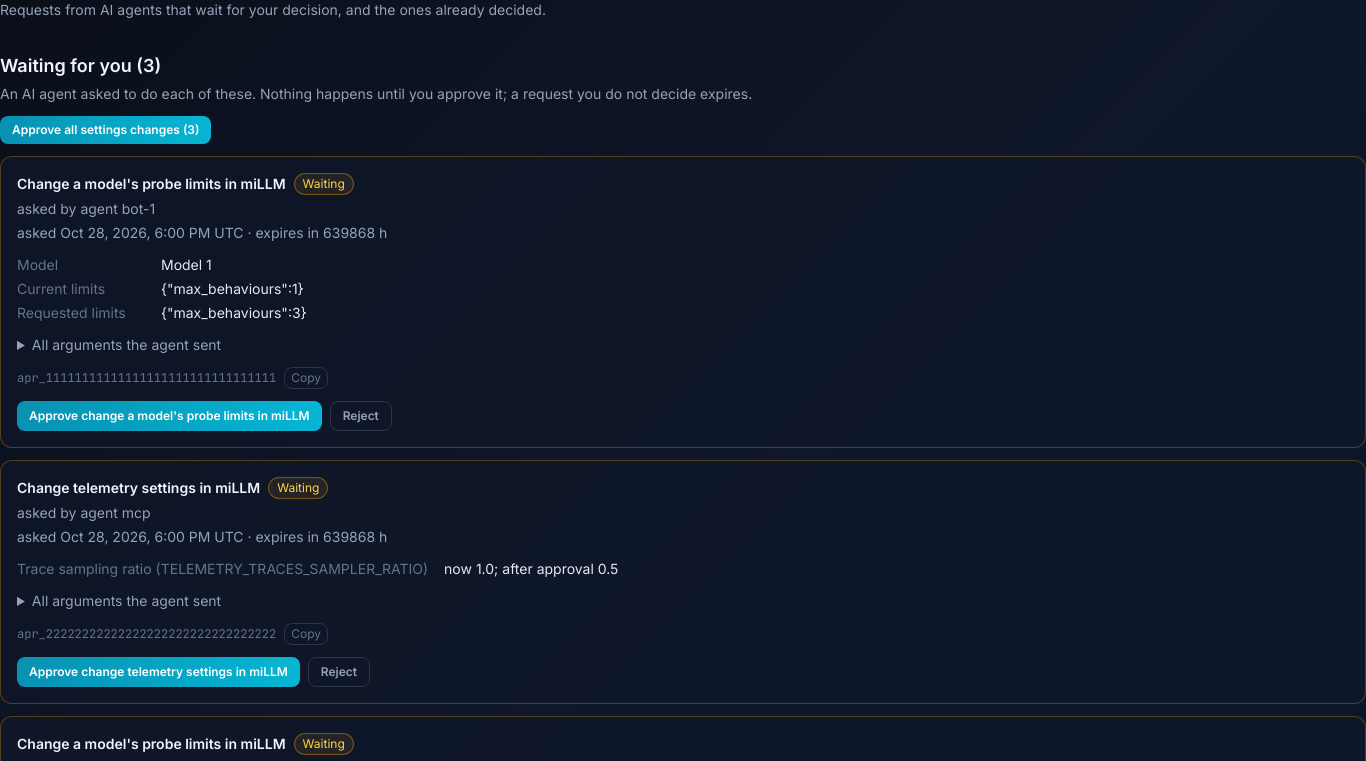
Approve all settings changes › History shows each decided request with the batch, and a failure is reported
Click the button "Approve all settings changes (3)": {"x": 106, "y": 130} [0,116,212,144]
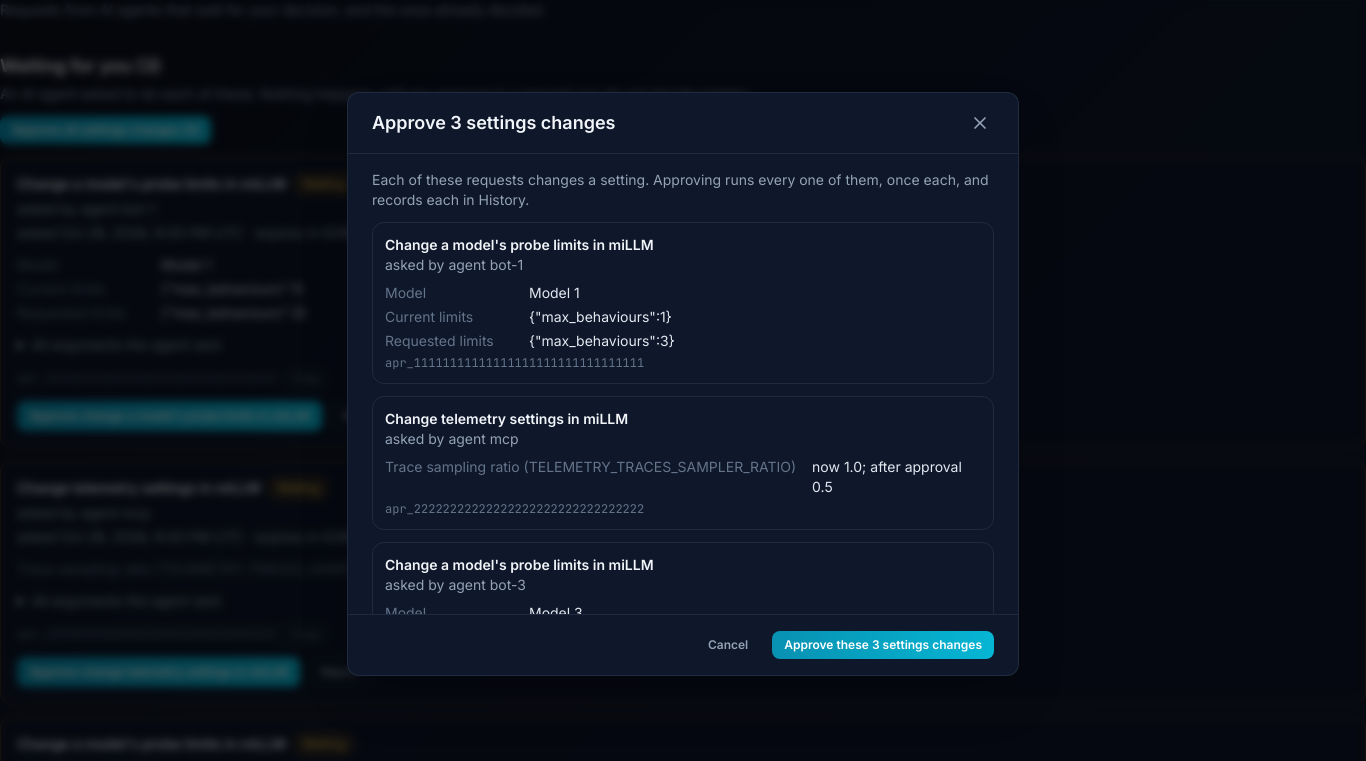
Click the button "Approve these 3 settings changes": {"x": 883, "y": 645} [772,631,994,659]
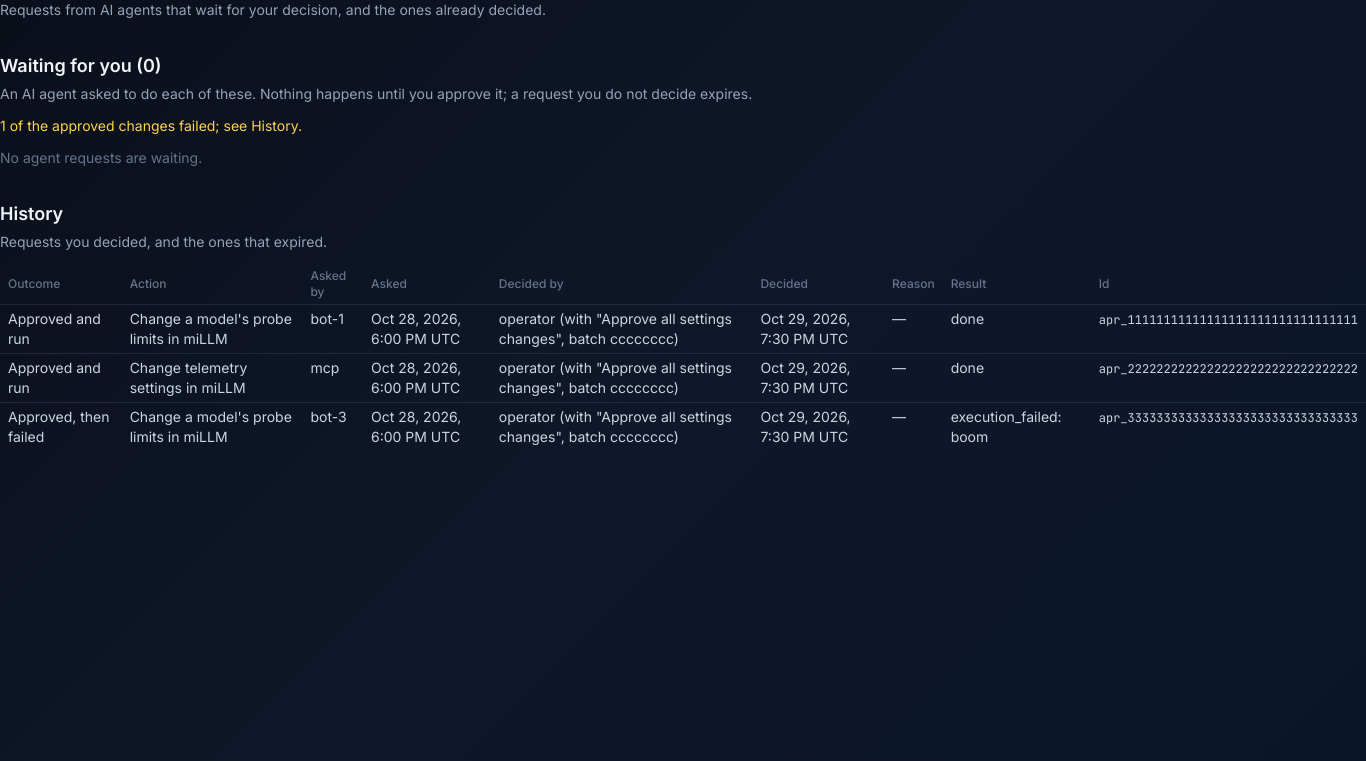
Expected: the message reads "1 of the approved changes failed; see History.", [0,117,302,134]
